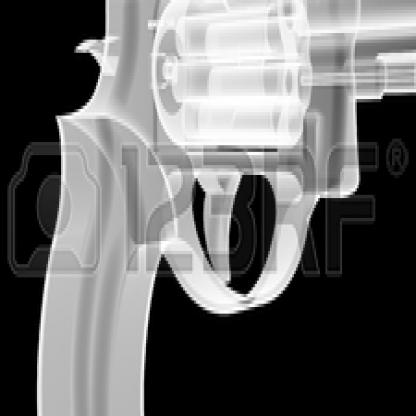gun: (32, 0, 414, 413)
